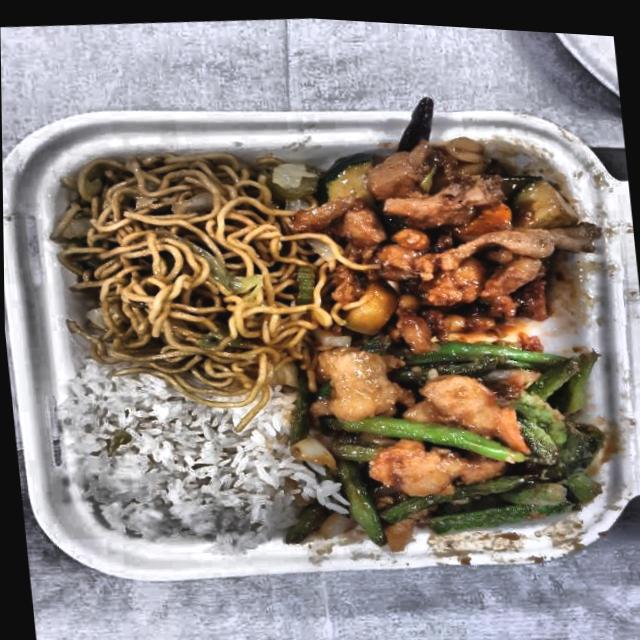Food: (280, 300, 623, 558), (39, 124, 335, 384), (297, 109, 600, 354), (68, 355, 308, 552)
